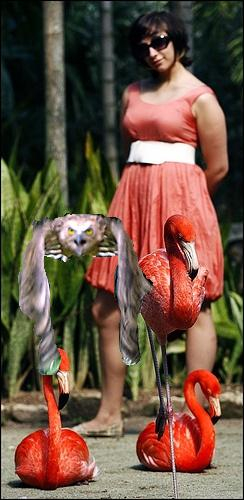tampered: (19, 214, 153, 375)
